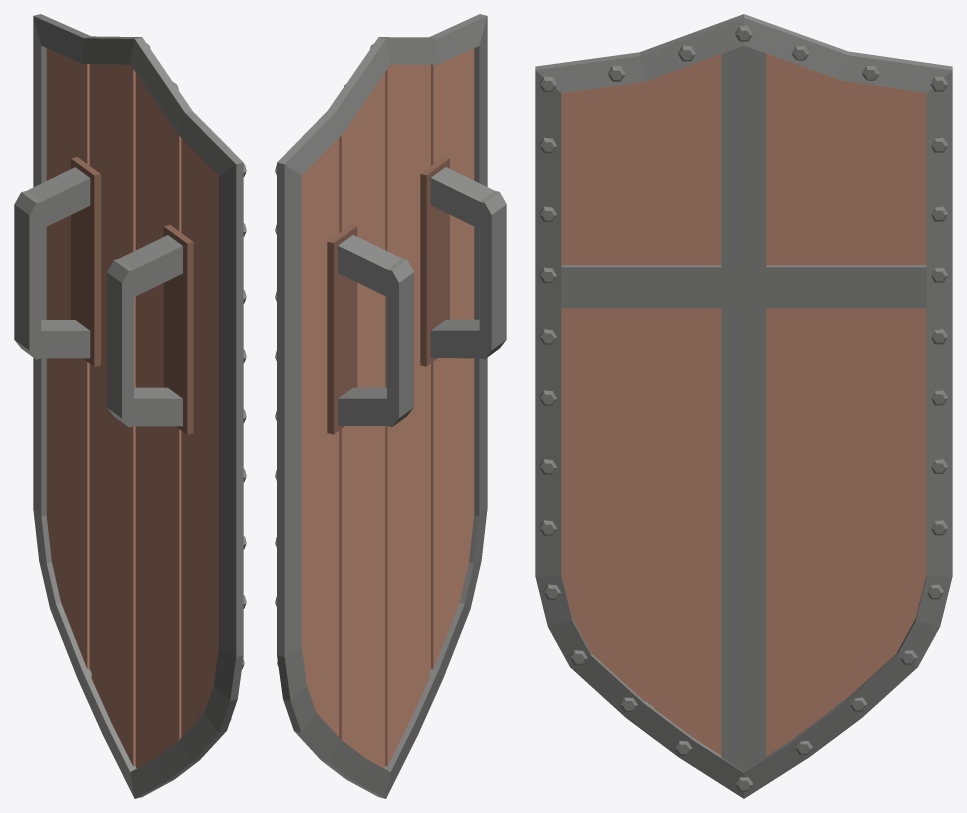
The model's file is Shield F.fbx.
3 renders of one model, left to right at view 1: azimuth 30°, elevation 25°; view 2: azimuth 150°, elevation 25°; view 3: azimuth 270°, elevation 25°, orthographic. The views are drawn at different scales.
Parts seen in each view (by area): view 1: Shield F; view 2: Shield F; view 3: Shield F.
Part boxes in pixels (box(x1,y1,x2,y2)): Shield F: box(14, 14, 246, 798); Shield F: box(275, 14, 506, 798); Shield F: box(535, 14, 952, 798).
Size of the model in its own units: 19.01 by 172 by 83.11.
